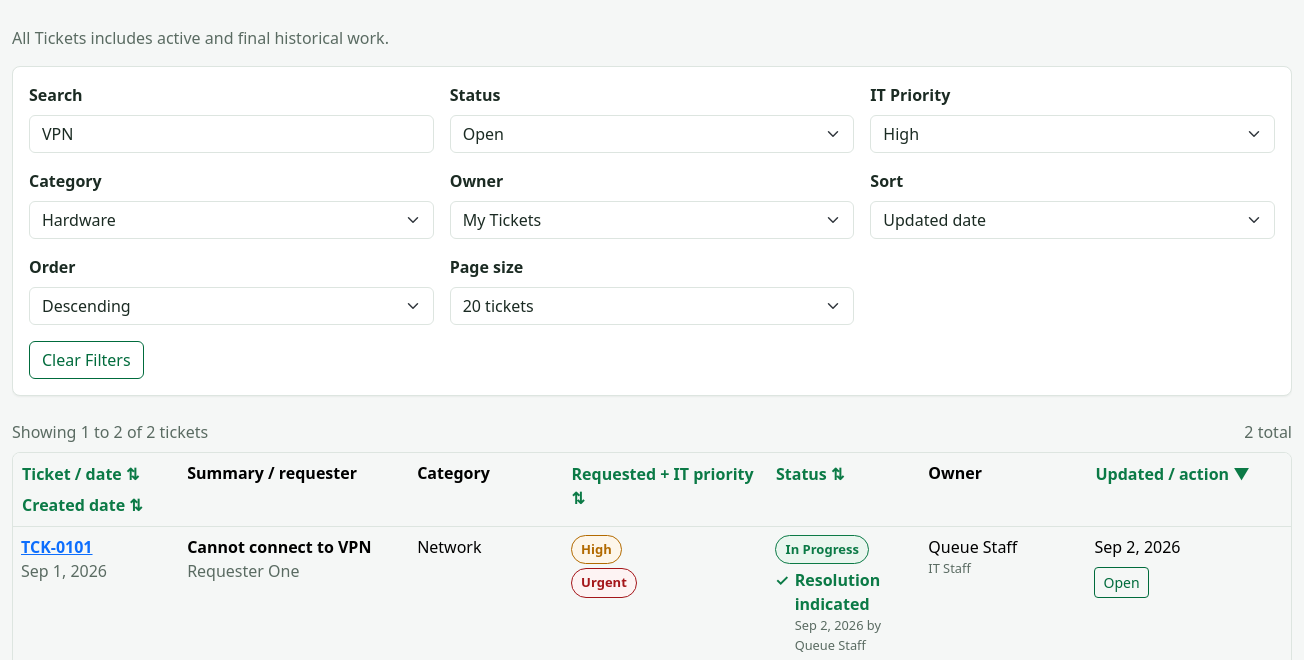
Issue 56 Staff Ticket Queue › UI-Q01: wires approved query controls, restores URL state, and resets page on changes
Expected: the search field showing "VPN" is shown, [29, 115, 434, 153]
Expected: the dropdown showing "20 tickets" is shown, [450, 287, 854, 325]
Select "Resolved" in the dropdown labelled "Status" at [652, 134], box [450, 115, 854, 153]
(page scrolled)
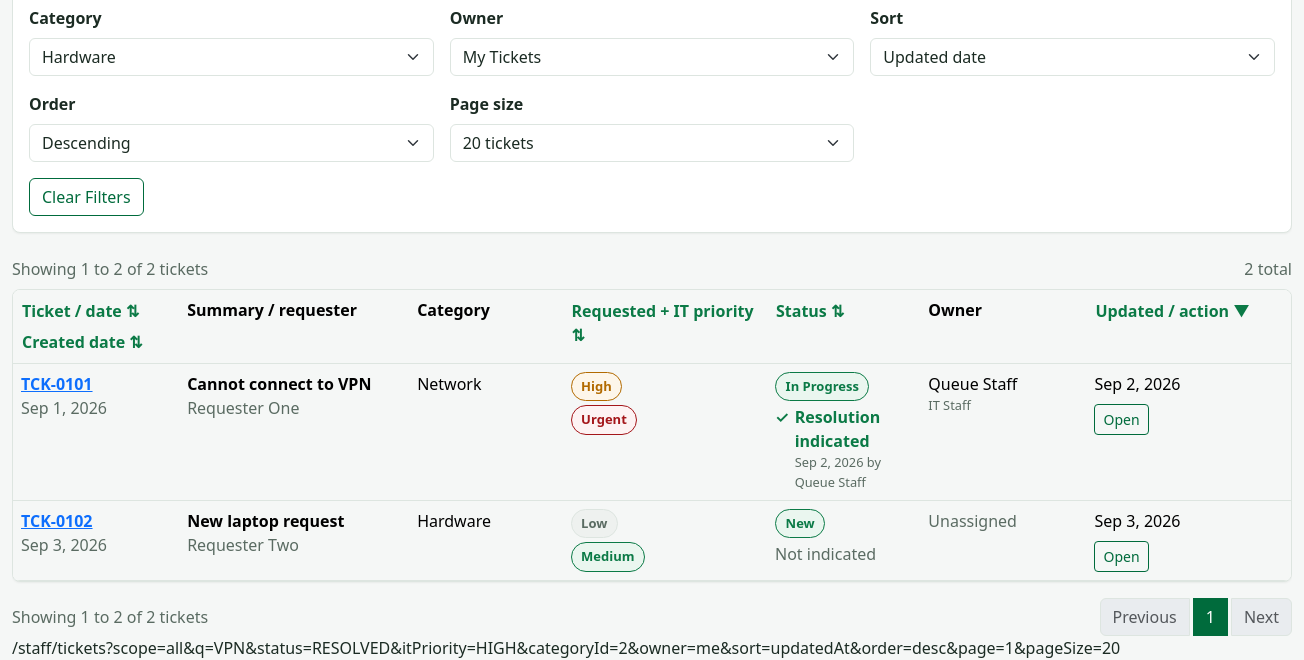
Expected: the text with test id "location" shows "status=RESOLVED", [106, 637, 1120, 659]
Expected: the text with test id "location" shows "page=1", [106, 637, 1120, 659]
